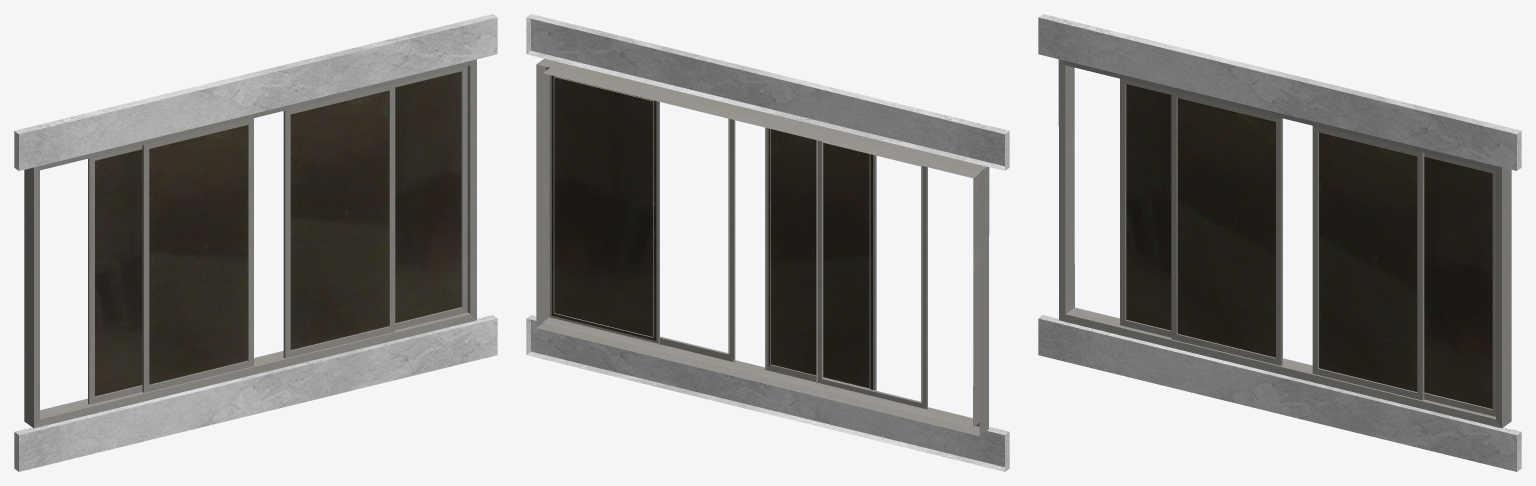
The model's file is Window_1m_007.fbx.
3 renders of one model, left to right at view 1: azimuth 30°, elevation 25°; view 2: azimuth 150°, elevation 25°; view 3: azimuth 330°, elevation 25°, orthographic.
Visible parts, largest first — view 1: Window_1m_007; view 2: Window_1m_007; view 3: Window_1m_007.
Part boxes in pixels (x1,y1,x2,y2): Window_1m_007: (14,14,497,471); Window_1m_007: (526,14,1009,471); Window_1m_007: (1038,14,1521,471).
Bounding box in the file's own units: 148 × 100 × 6.75.
Materials: 1 (1 with a texture image).
